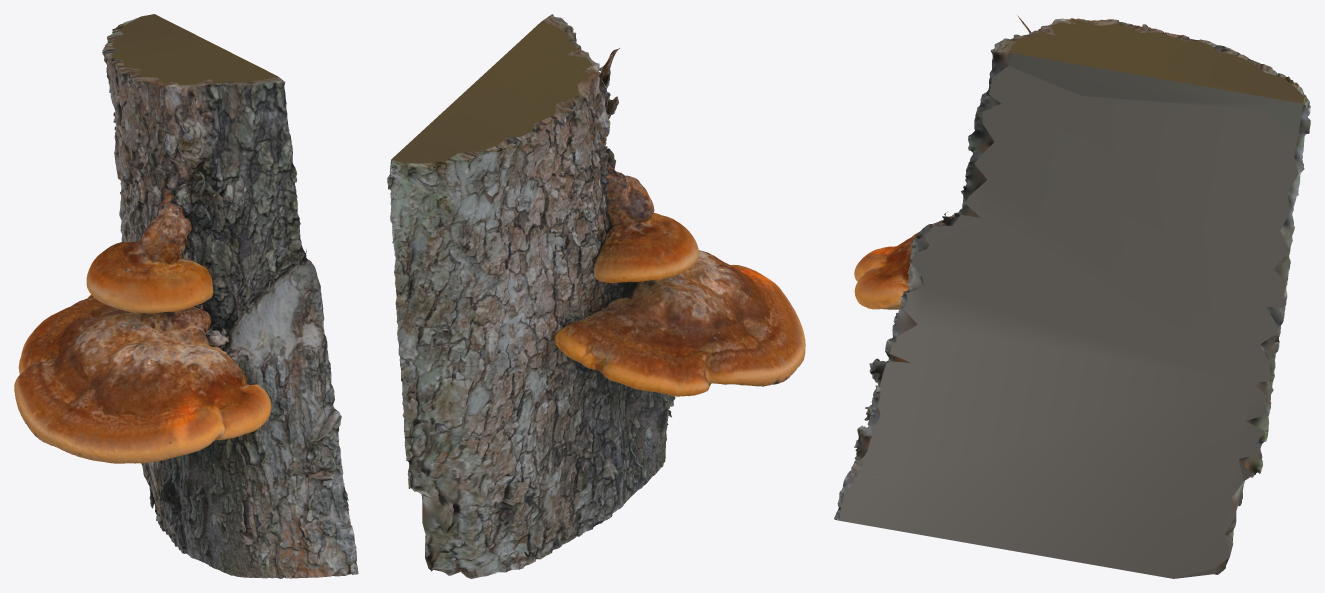
The model's file is sf-polyporus-mushroom-fc7ef8.glb.
3 renders of one model, left to right at view 1: azimuth 30°, elevation 25°; view 2: azimuth 150°, elevation 25°; view 3: azimuth 270°, elevation 25°, orthographic. The views are drawn at different scales.
Visible parts, largest first — view 1: Object_2; view 2: Object_2; view 3: Object_2.
Boxes of the visible parts, box(x1,y1,x2,y2) form: Object_2: box(14, 14, 358, 578); Object_2: box(387, 14, 805, 578); Object_2: box(834, 15, 1310, 578).
Bounding box in the file's own units: 0.3701 × 0.6659 × 0.5491.
Materials: 1 (1 with a texture image).
